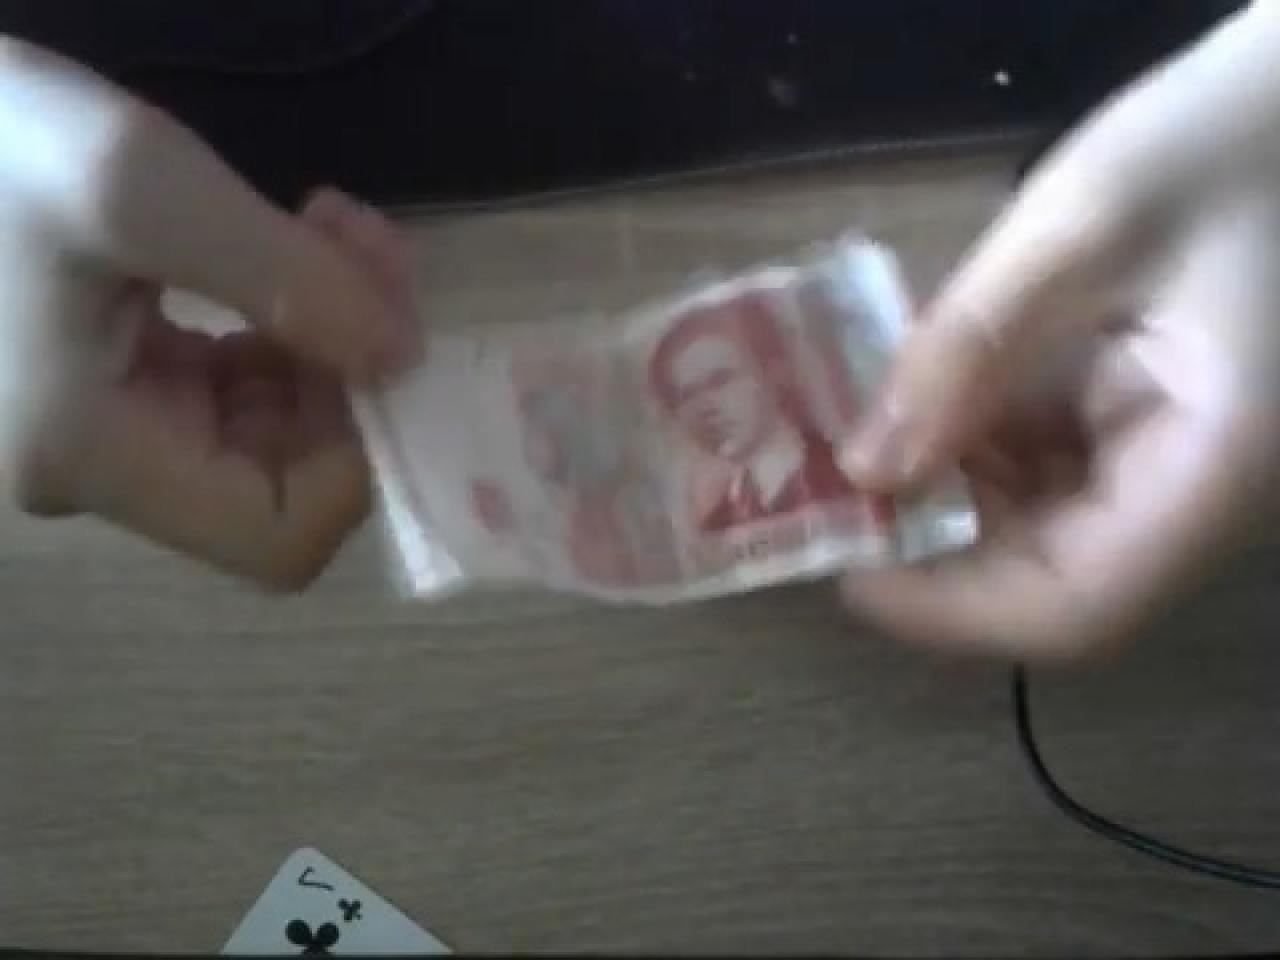5leva: (358, 173, 976, 613)
